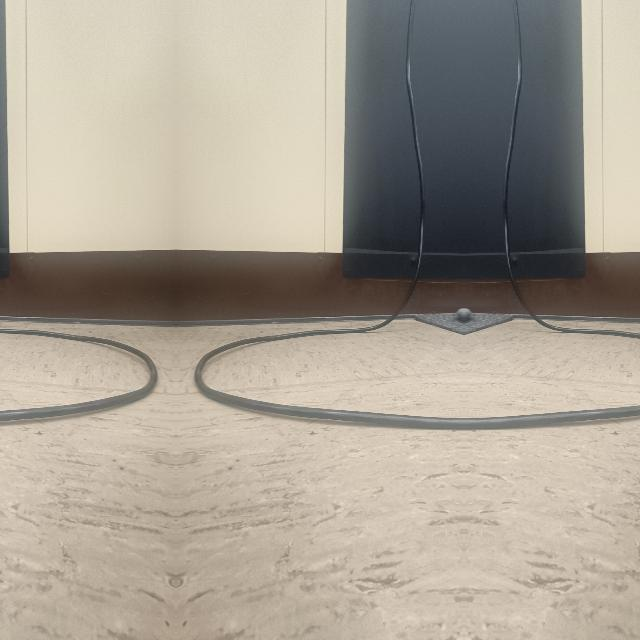obstacle: (196, 322, 464, 436), (464, 322, 640, 436), (0, 322, 154, 436)
